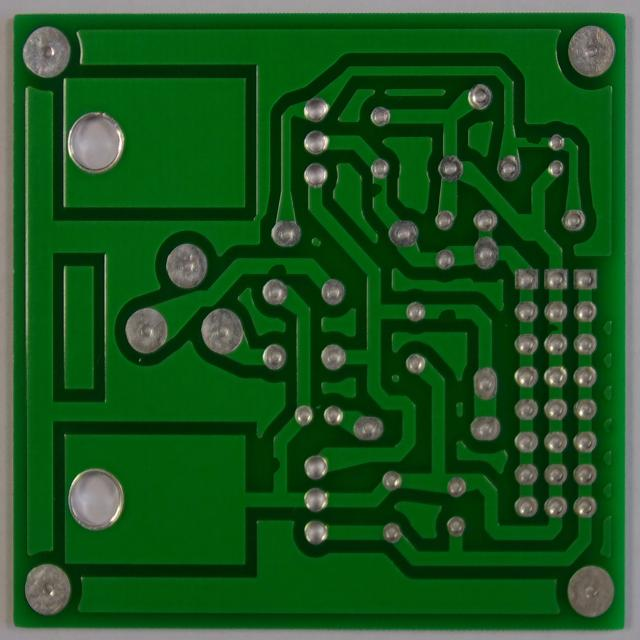mouse_bite: (264, 254, 288, 280), (368, 178, 390, 203), (434, 303, 460, 324), (268, 453, 290, 474), (523, 132, 545, 149), (545, 320, 564, 337)
